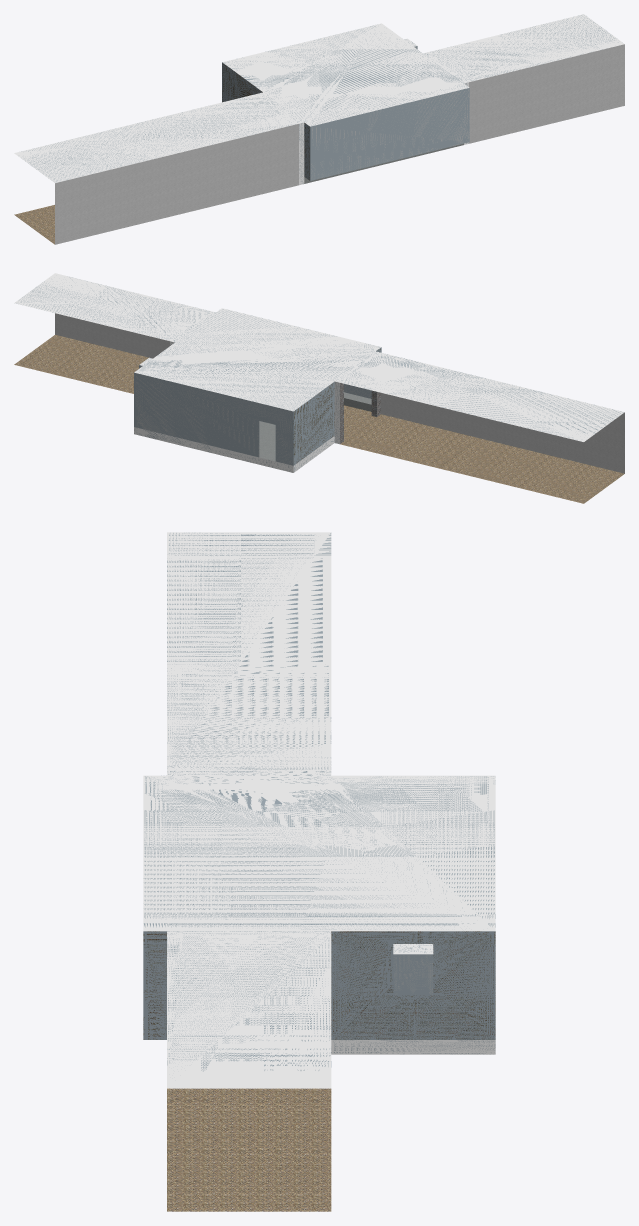
Rendered from Ruimte2.fbx.
3 views of the same model, one above another, from view 1: azimuth 30°, elevation 25°; view 2: azimuth 150°, elevation 25°; view 3: azimuth 270°, elevation 25° (orthographic). The views are drawn at different scales.
Visible parts, largest first — view 1: wallstunnel1, roofgang1, dak1, Model, floorr1, pit_edges1; view 2: roofgang1, dak1, Model, floorr1, wallstunnel1, floor2_1, floor1_1, columns1; view 3: roofgang1, dak1, Model, floorr1, floor2_1.
Part boxes in pixels (bbox=[...]): wallstunnel1: bbox=[55, 44, 624, 244]; roofgang1: bbox=[14, 14, 624, 182]; dak1: bbox=[222, 23, 469, 126]; Model: bbox=[222, 46, 469, 185]; floorr1: bbox=[14, 205, 54, 244]; pit_edges1: bbox=[304, 143, 463, 183]; roofgang1: bbox=[14, 273, 624, 441]; dak1: bbox=[134, 308, 381, 411]; Model: bbox=[134, 311, 381, 472]; floorr1: bbox=[14, 335, 624, 503]; wallstunnel1: bbox=[55, 313, 624, 473]; floor2_1: bbox=[123, 384, 478, 468]; floor1_1: bbox=[259, 392, 371, 461]; columns1: bbox=[340, 383, 380, 443]; roofgang1: bbox=[167, 532, 331, 1088]; dak1: bbox=[143, 775, 495, 954]; Model: bbox=[143, 770, 495, 1054]; floorr1: bbox=[167, 1105, 331, 1211]; floor2_1: bbox=[167, 1088, 331, 1105].
Bounding box in the file's own units: 32.92 × 3.4 × 8.8.
